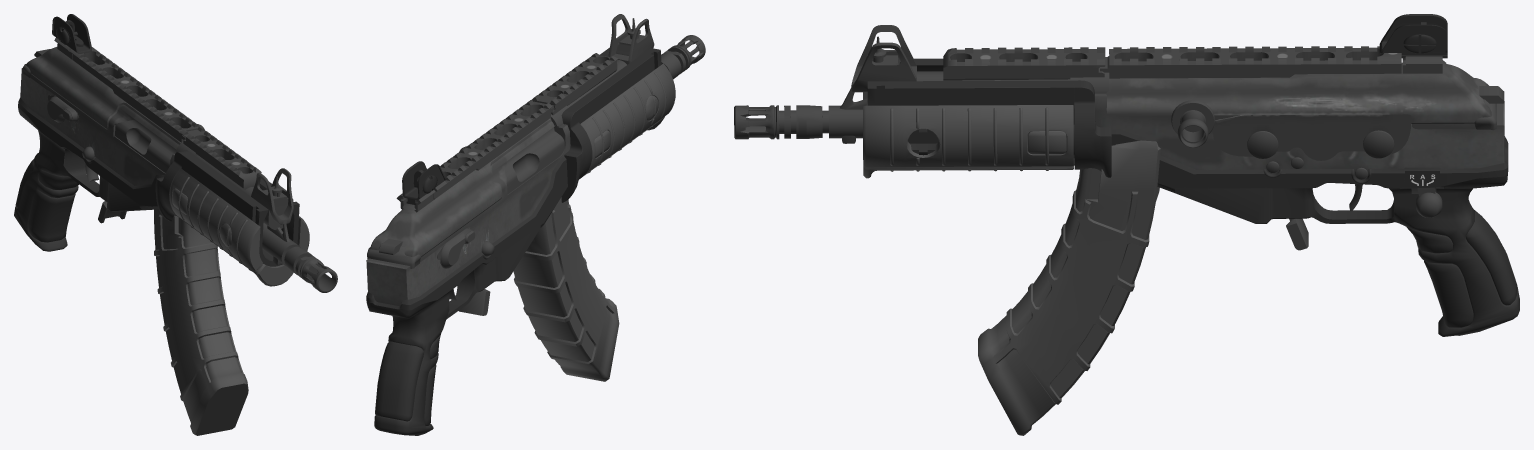
The model's file is galil_ace.glb.
The picture shows the model from 3 angles, left to right: view 1: azimuth 30°, elevation 25°; view 2: azimuth 150°, elevation 25°; view 3: azimuth 270°, elevation 25°; orthographic projection. The views are drawn at different scales.
Visible parts, largest first — view 1: magazine, receiver, top_cover, rail_cover_right, handguard, top_rail, handguard_top_rail, barrel, gas_block, bolt_carrier, rear_sight, rail_cover_bottom (+2 smaller); view 2: receiver, magazine, top_cover, rail_cover_right, handguard, top_rail, handguard_top_rail, bolt_carrier, gas_block, rear_sight, barrel, selector_right (+2 smaller); view 3: receiver, magazine, top_cover, rail_cover_left, top_rail, handguard, charging_slot_cover, handguard_top_rail, barrel, gas_block, rear_sight, charging_handle (+2 smaller).
Part boxes in pixels (x1,y1,x2,y2): magazine: [154, 209, 248, 435]; receiver: [14, 68, 174, 251]; top_cover: [26, 47, 180, 149]; rail_cover_right: [169, 168, 262, 271]; handguard: [155, 150, 299, 266]; top_rail: [54, 38, 199, 142]; handguard_top_rail: [180, 126, 261, 189]; barrel: [262, 223, 337, 292]; gas_block: [176, 140, 293, 265]; bolt_carrier: [115, 120, 176, 172]; rear_sight: [52, 14, 91, 53]; rail_cover_bottom: [180, 218, 293, 286]; receiver: [366, 124, 570, 435]; magazine: [513, 197, 619, 381]; top_cover: [370, 118, 554, 262]; rail_cover_right: [580, 63, 675, 173]; handguard: [561, 47, 661, 202]; top_rail: [396, 100, 554, 212]; handguard_top_rail: [532, 53, 618, 115]; bolt_carrier: [505, 127, 564, 193]; gas_block: [550, 14, 654, 127]; rear_sight: [402, 161, 445, 205]; barrel: [661, 35, 705, 79]; selector_right: [437, 227, 475, 268]; receiver: [1095, 93, 1519, 336]; magazine: [978, 140, 1160, 435]; top_cover: [1106, 62, 1504, 129]; rail_cover_left: [863, 105, 1073, 167]; top_rail: [1100, 46, 1446, 78]; handguard: [867, 58, 1111, 177]; charging_slot_cover: [1211, 114, 1411, 160]; handguard_top_rail: [943, 47, 1105, 80]; barrel: [734, 105, 862, 139]; gas_block: [840, 25, 1109, 143]; rear_sight: [1379, 14, 1447, 58]; charging_handle: [1171, 100, 1239, 147].
Bounding box in the file's own units: 0.0756 × 0.2829 × 0.4928.
7 materials, 1 textured.
